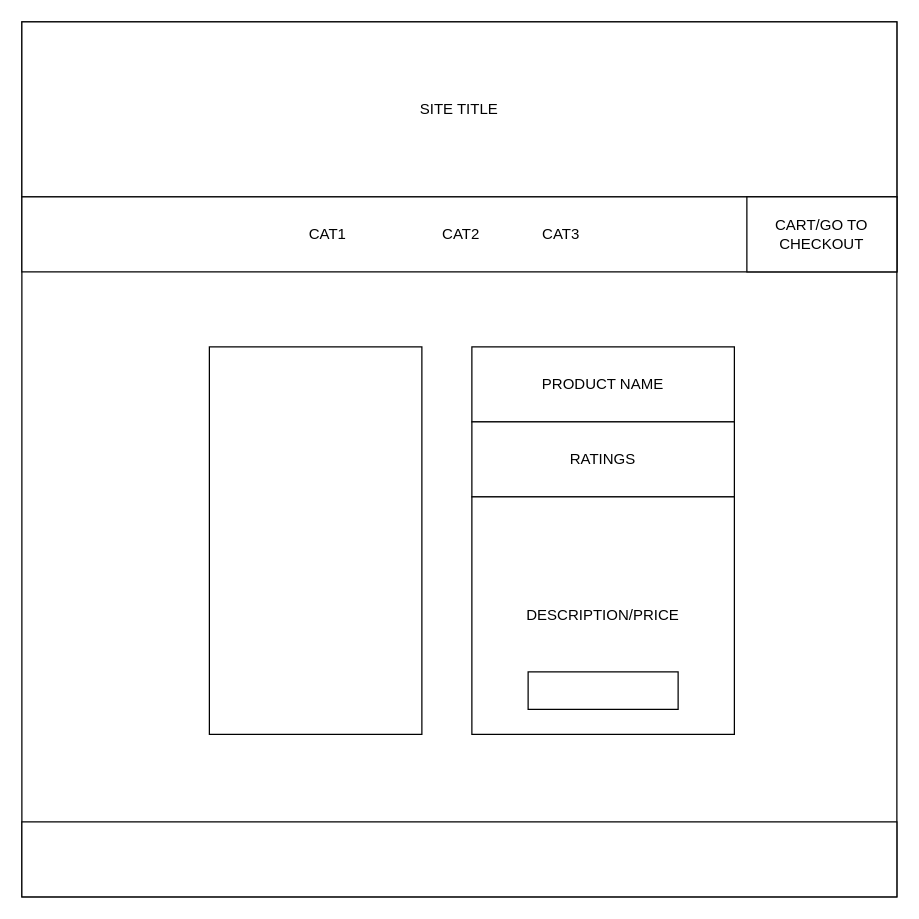
This 919x919 diagram has some shape labels left out. The shapes that lost their labels are listed below. From the top down, each one's centre as x and y in pixels, then its label:
At point (315, 540): "PRODUCT".
At point (602, 690): "ADD TO CART".
At point (459, 859): "FOOTER".
